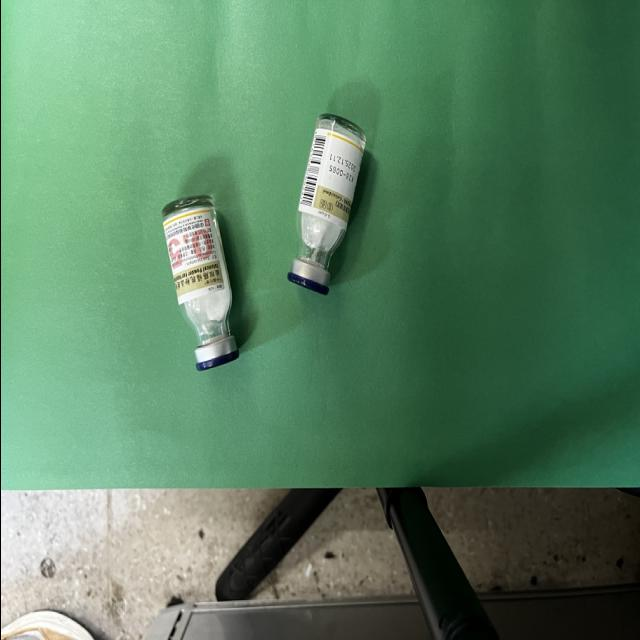Vials: (286, 114, 364, 295), (162, 196, 238, 371)
